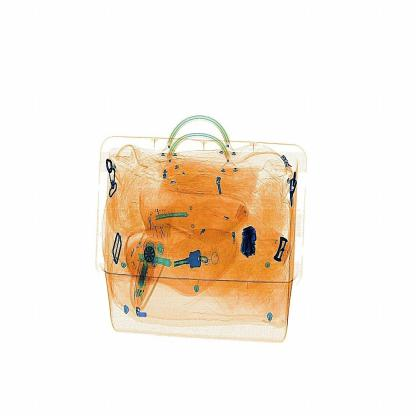scissors: (234, 215, 268, 261)
